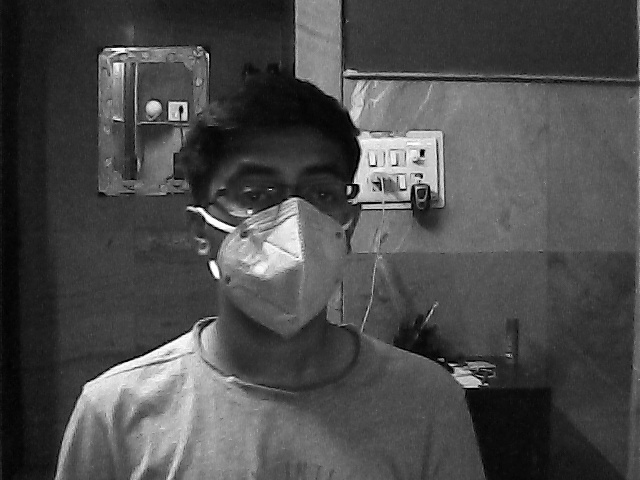mask: (205, 154, 353, 345)
